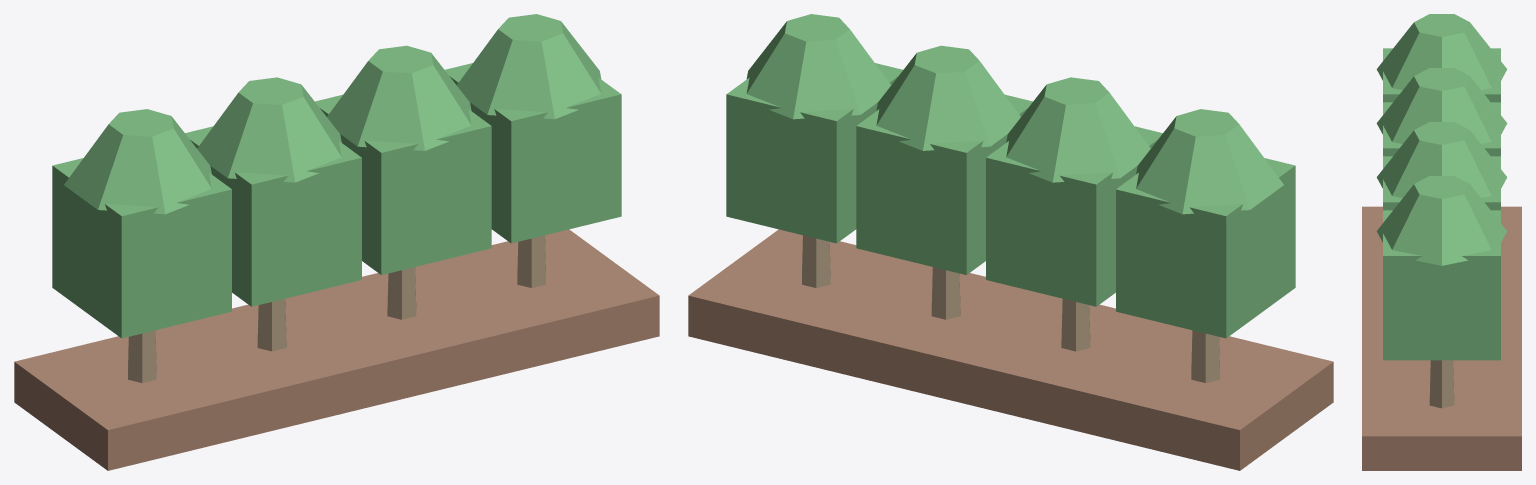
Rendered from flora_43_morus_alba_luong_cay_dau_tam_to_lua_nam_ban_ta_nung.glb.
The picture shows the model from 3 angles, left to right: view 1: azimuth 30°, elevation 25°; view 2: azimuth 150°, elevation 25°; view 3: azimuth 270°, elevation 25°; orthographic projection. The views are drawn at different scales.
Parts seen in each view (by area): view 1: flora_43_morus_alba_luong_cay_dau_tam_to_lua_nam_ban_ta_nung; view 2: flora_43_morus_alba_luong_cay_dau_tam_to_lua_nam_ban_ta_nung; view 3: flora_43_morus_alba_luong_cay_dau_tam_to_lua_nam_ban_ta_nung.
Part boxes in pixels (box(x1,y1,x2,y2)): flora_43_morus_alba_luong_cay_dau_tam_to_lua_nam_ban_ta_nung: box(14, 14, 659, 470); flora_43_morus_alba_luong_cay_dau_tam_to_lua_nam_ban_ta_nung: box(688, 14, 1333, 470); flora_43_morus_alba_luong_cay_dau_tam_to_lua_nam_ban_ta_nung: box(1362, 14, 1521, 470).
Bounding box in the file's own units: 3.4 × 1.73 × 1.
